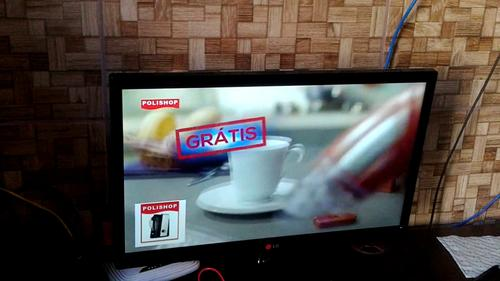Polishop #1: (134, 199, 186, 248)
